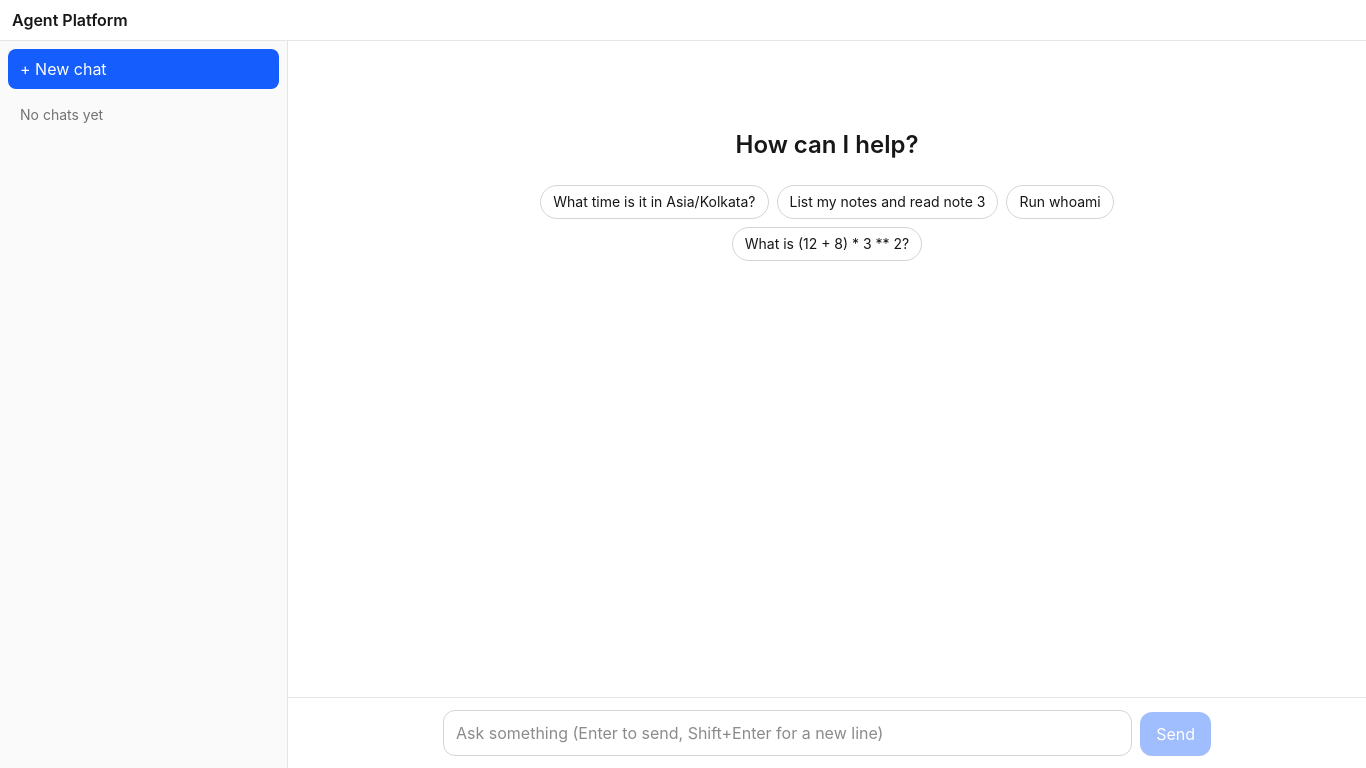
chat UI › shows the server's error detail for HTTP errors (e.g. daily cap)
Type "hi" into the text box named "Message" at (788, 733), box [443,710,1132,756]
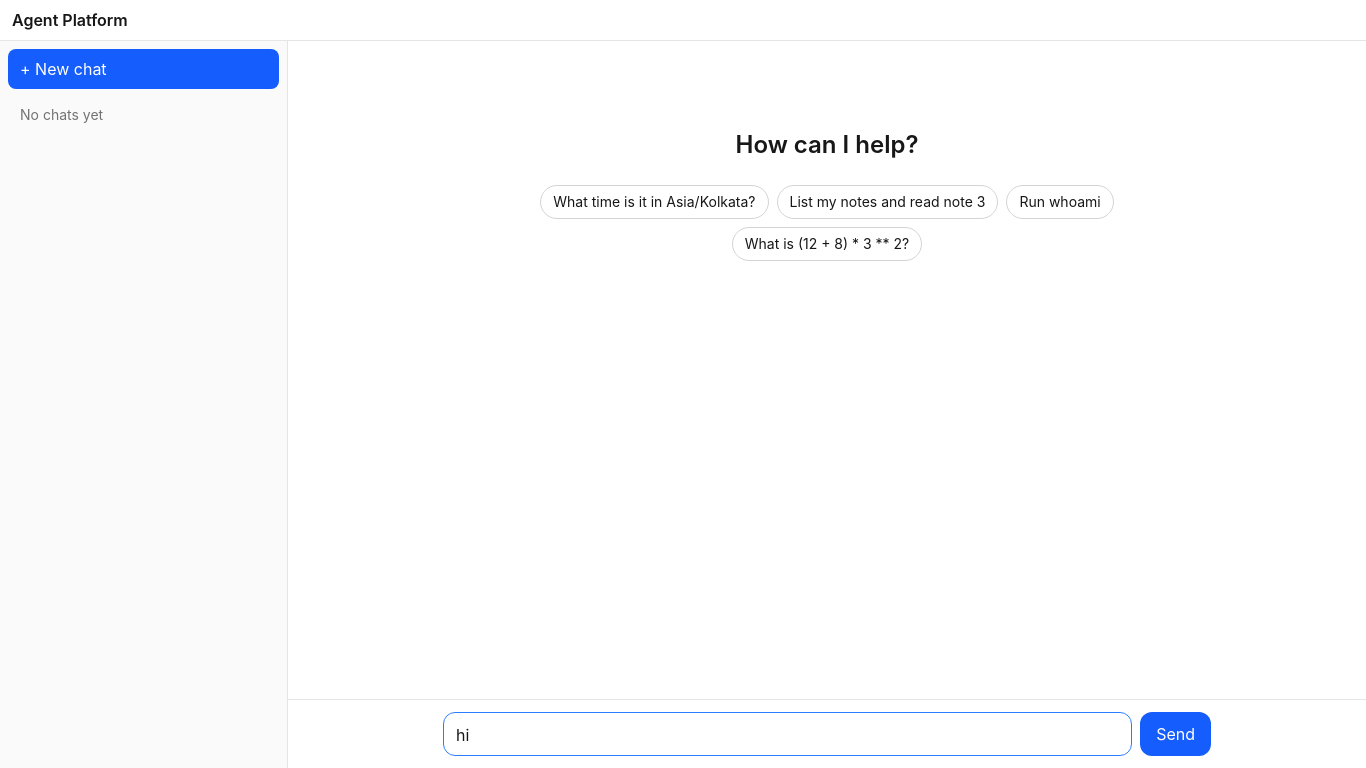
Click the button "Send" at (1176, 734), box [1140,712,1211,756]
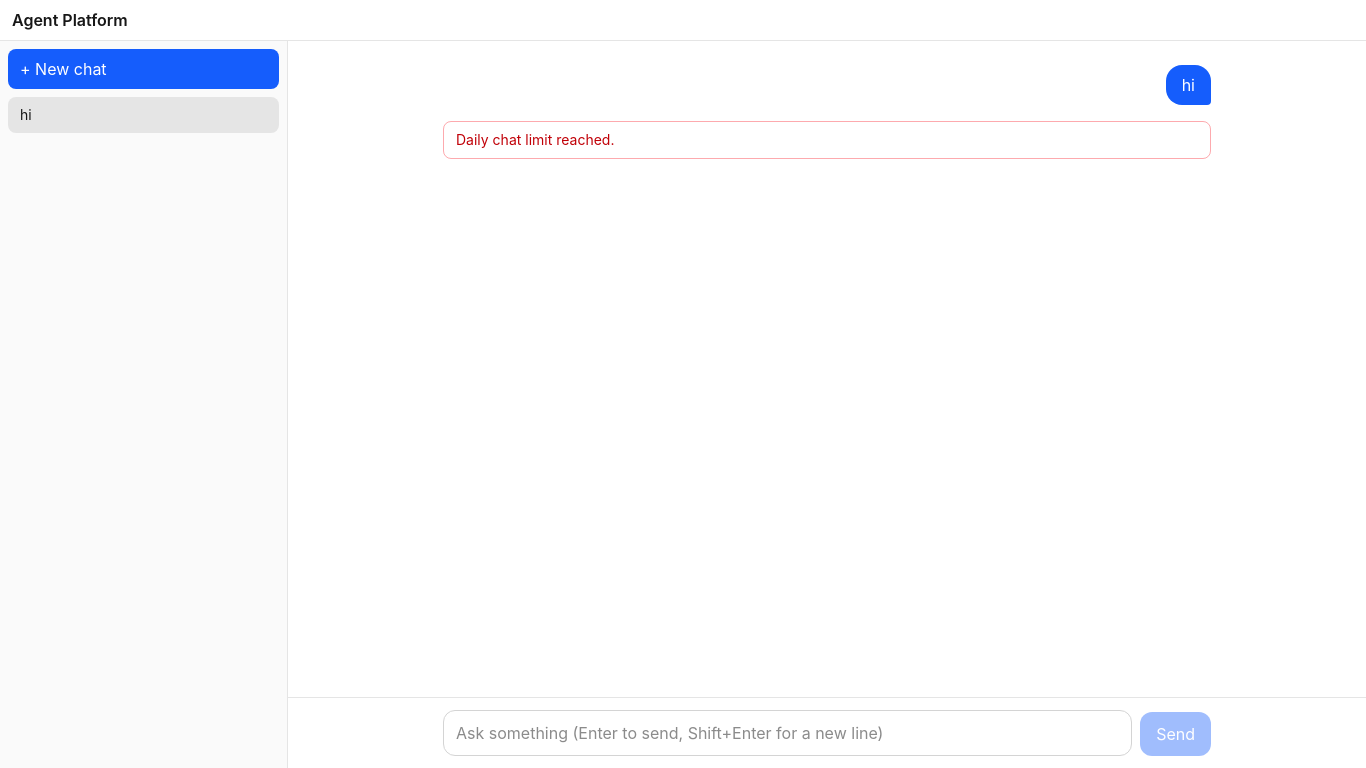
Expected: the message reads "Daily chat limit reached.", [456,131,614,148]
